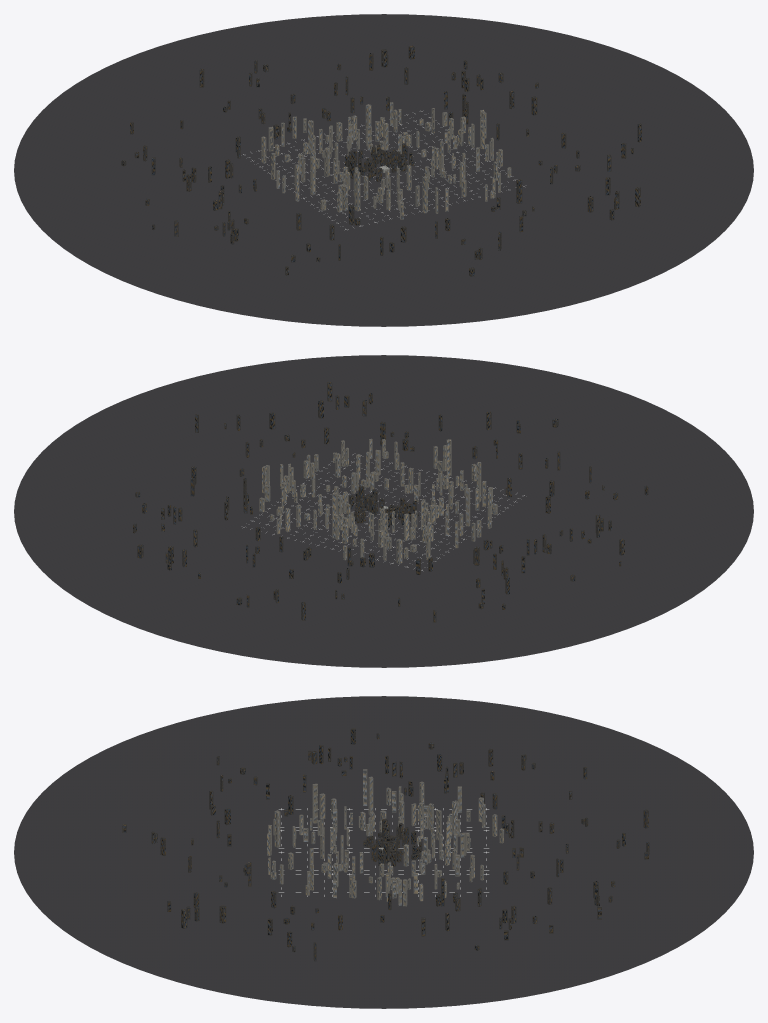
Rendered from rooftop-ninth.glb.
3 views of the same model, one above another, from view 1: azimuth 30°, elevation 25°; view 2: azimuth 150°, elevation 25°; view 3: azimuth 270°, elevation 25° (orthographic).
Parts seen in each view (by area): view 1: M_Asphalt_Far, M_Win_NightConc, M_Win_NightGlass; view 2: M_Asphalt_Far, M_Win_NightConc, M_Win_NightGlass; view 3: M_Asphalt_Far, M_Win_NightConc, M_Win_NightGlass, M_Glow_City.
Boxes of the visible parts, left/top/right/bottom form: M_Asphalt_Far: left=14, top=14, right=753, bottom=326; M_Win_NightConc: left=261, top=102, right=511, bottom=219; M_Win_NightGlass: left=121, top=45, right=641, bottom=276; M_Asphalt_Far: left=14, top=355, right=753, bottom=667; M_Win_NightConc: left=259, top=438, right=497, bottom=563; M_Win_NightGlass: left=133, top=382, right=648, bottom=622; M_Asphalt_Far: left=14, top=696, right=753, bottom=1008; M_Win_NightConc: left=267, top=769, right=503, bottom=906; M_Win_NightGlass: left=122, top=728, right=649, bottom=961; M_Glow_City: left=279, top=808, right=488, bottom=896.
Bounding box in the file's own units: 5200 × 299 × 5200.
Materials: 18 (7 with a texture image).
